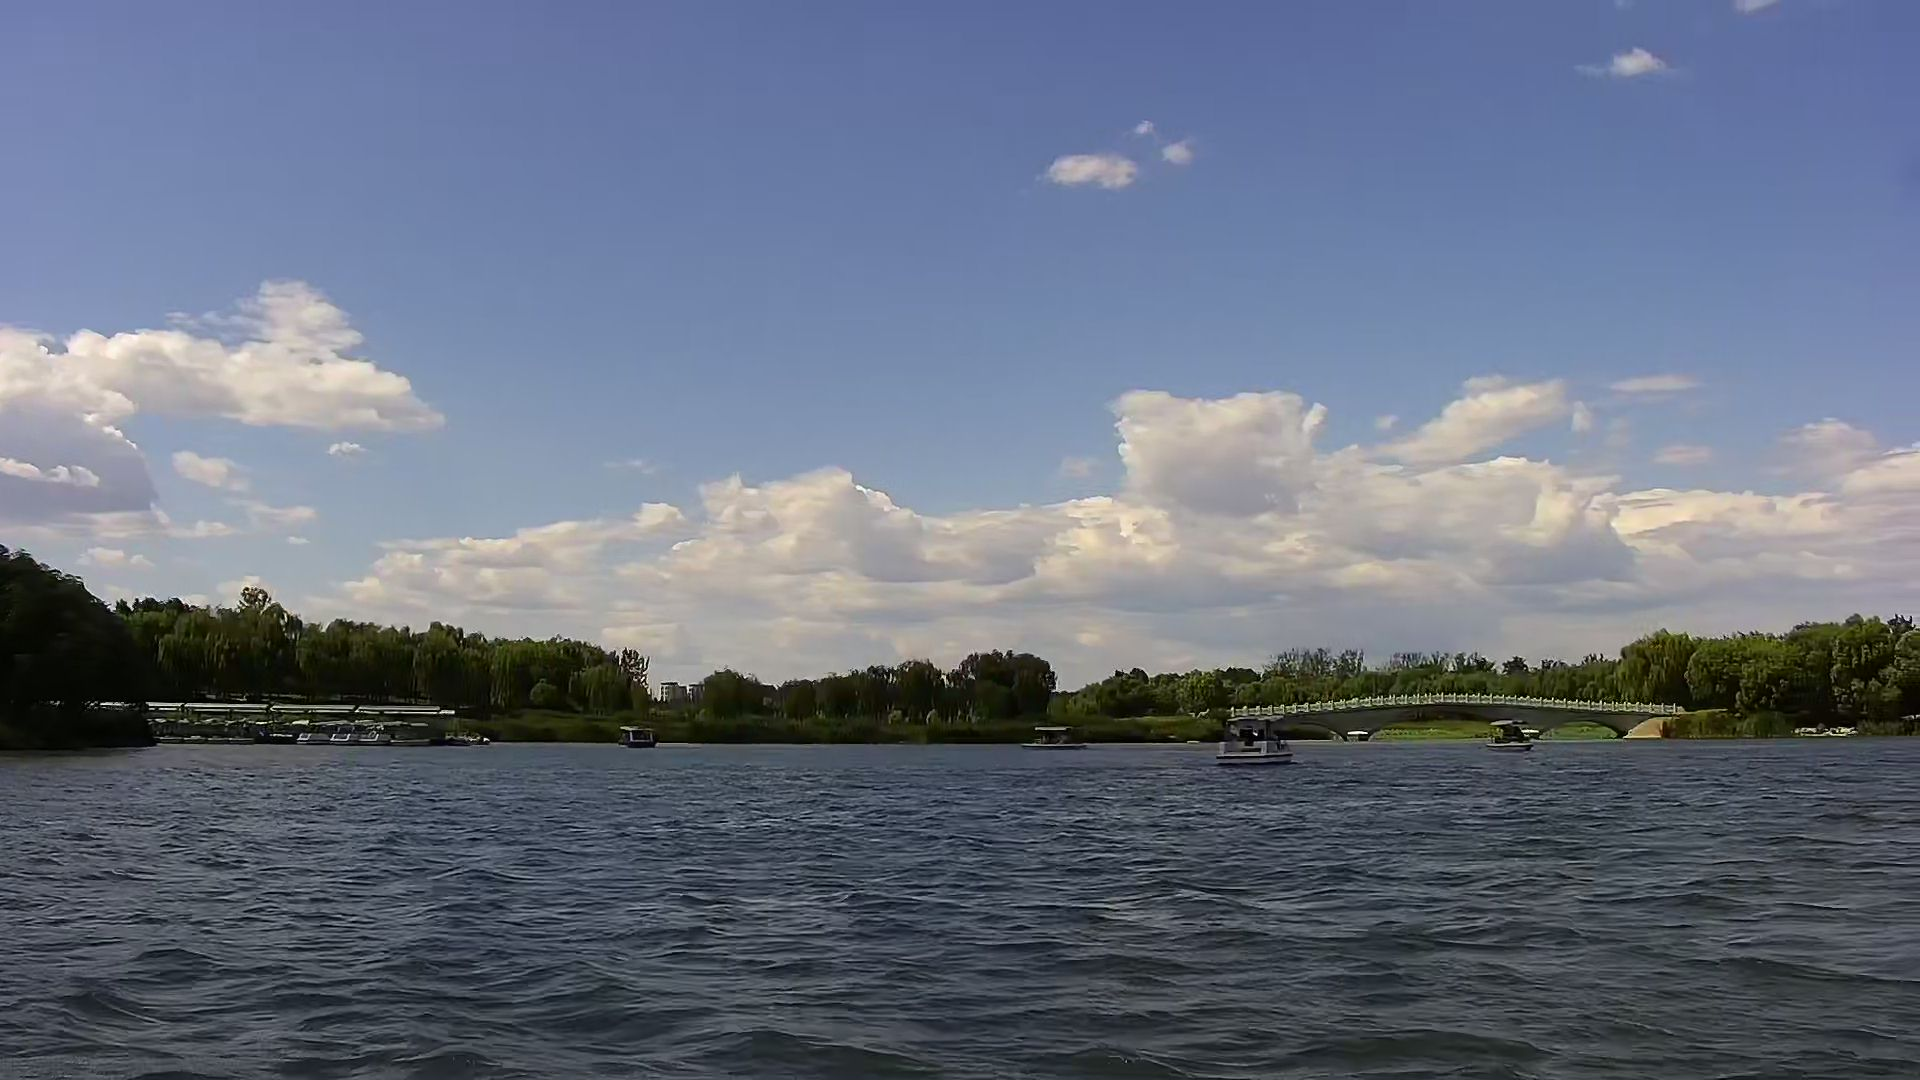boat: (1207, 713, 1298, 771), (1009, 716, 1097, 764), (1473, 713, 1549, 758), (612, 720, 659, 753)
bridge: (1215, 694, 1691, 742)
